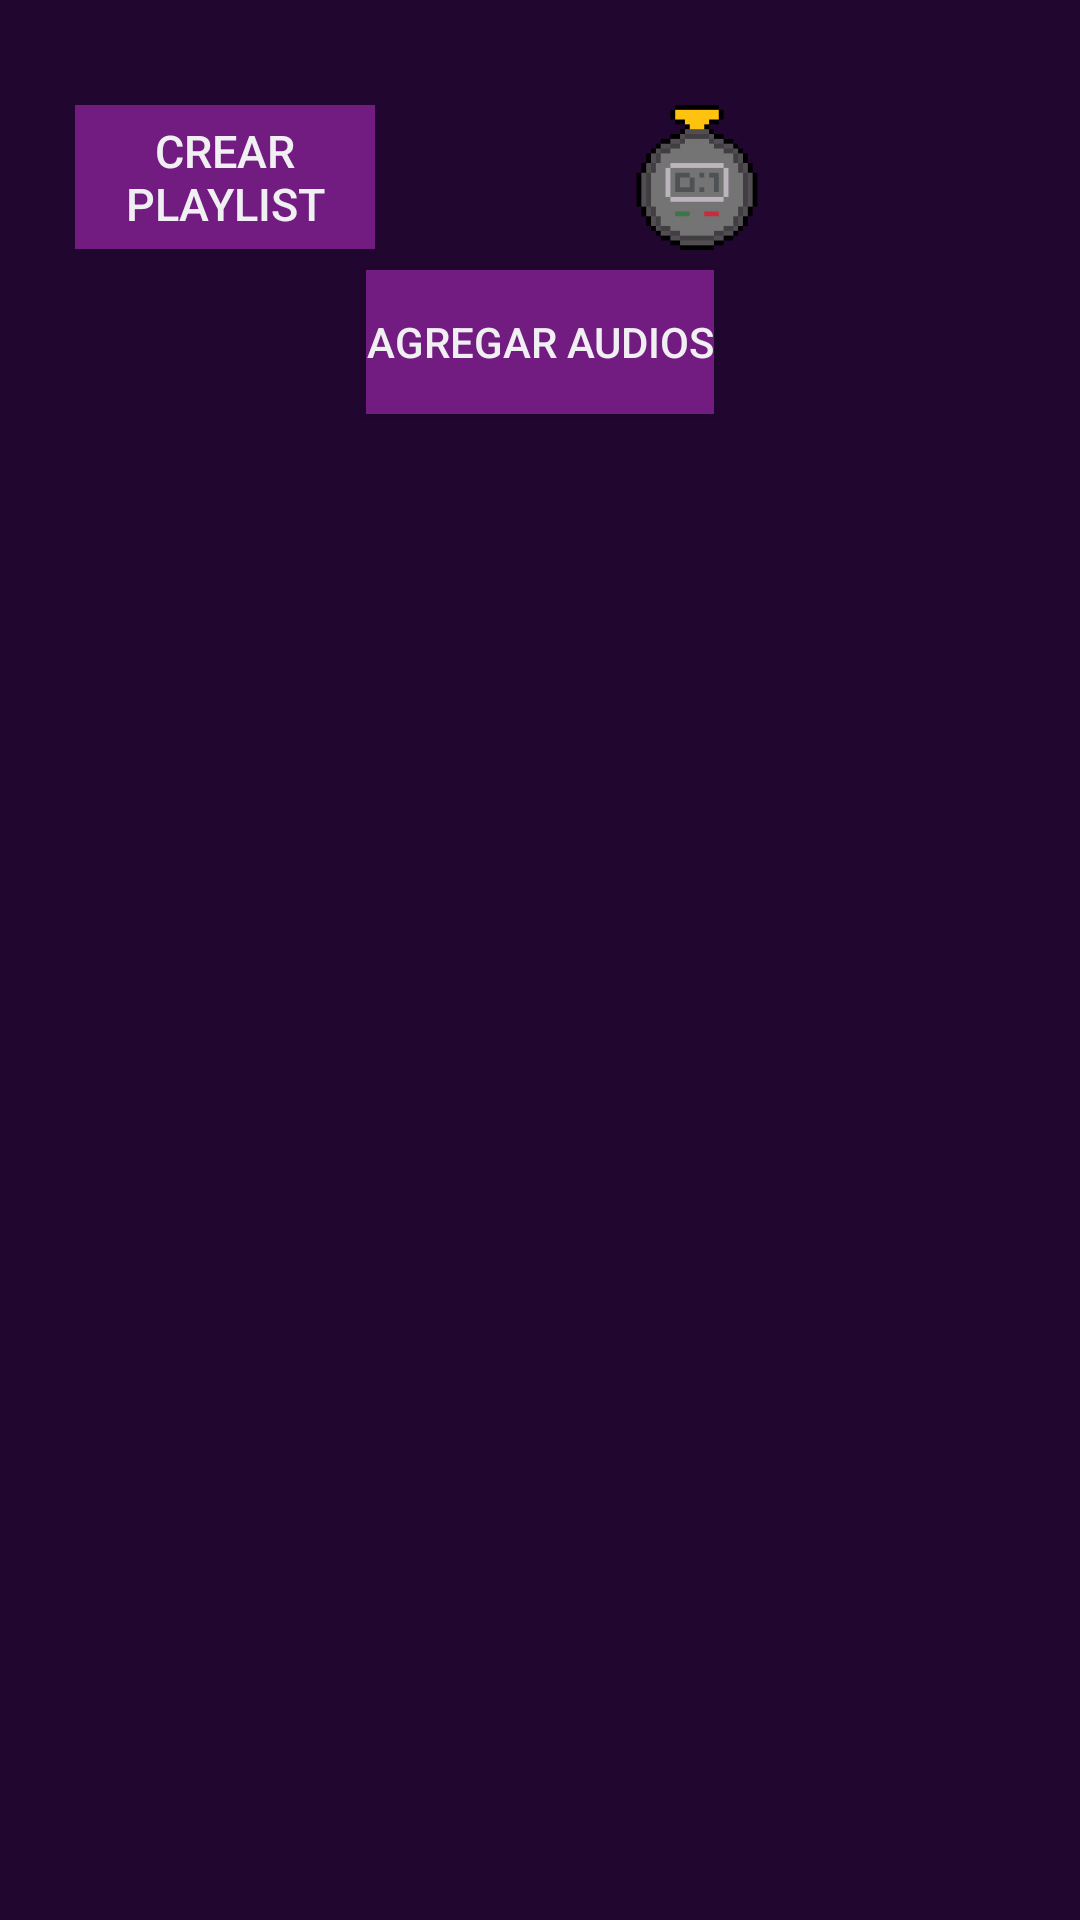

Icons on this 1080×1920 Android screen, each with the point to tap as (x=x, y=y):
temporizer: (x=697, y=177)
